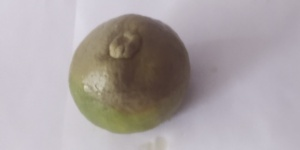BAD: (72, 13, 191, 135)
